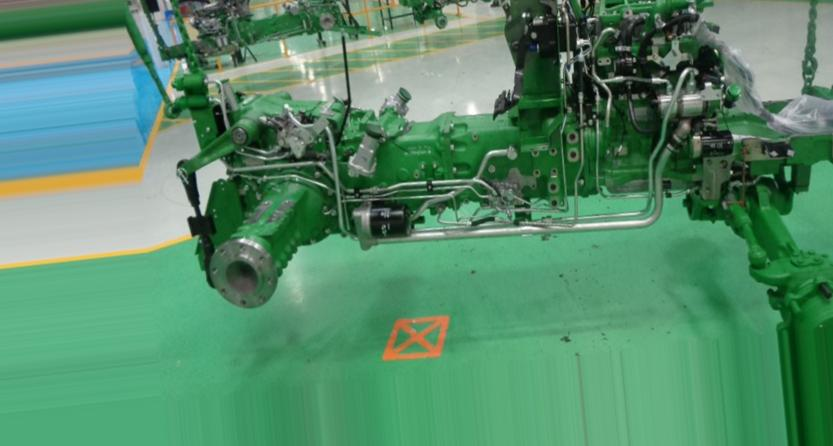engine: (153, 0, 833, 446)
